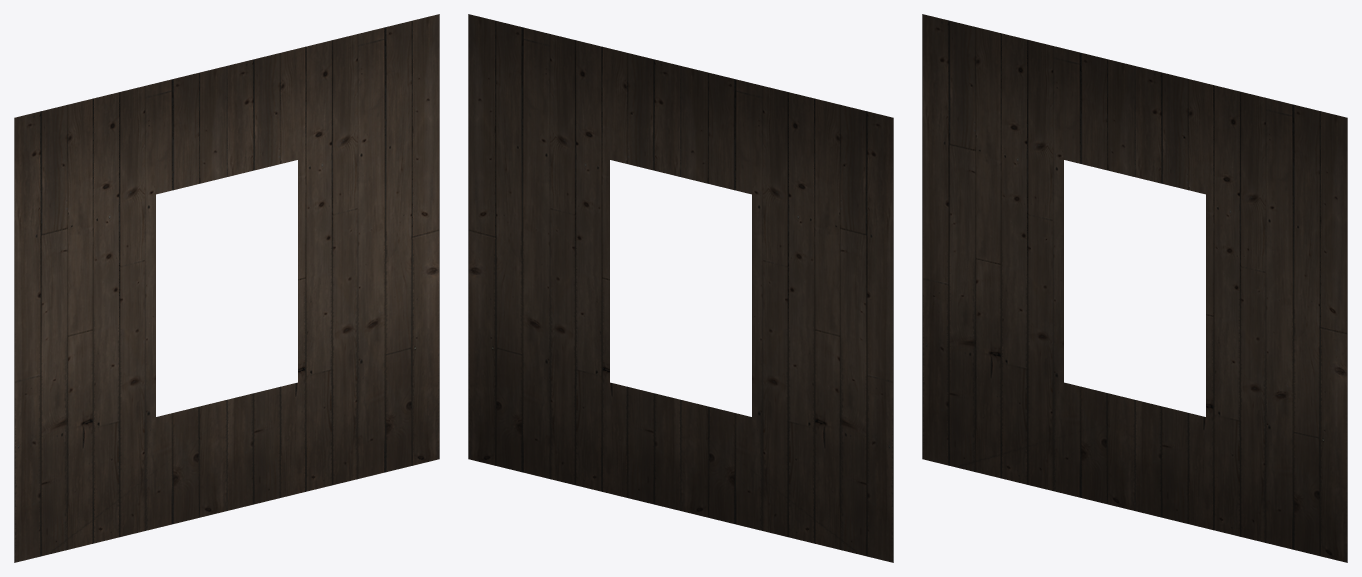
File: Wall.W_3x3_Window.fbx
3 views of the same model, side by side, from view 1: azimuth 30°, elevation 25°; view 2: azimuth 150°, elevation 25°; view 3: azimuth 330°, elevation 25° (orthographic).
Parts seen in each view (by area): view 1: Wall.W_3x3_Window; view 2: Wall.W_3x3_Window; view 3: Wall.W_3x3_Window.
Part boxes in pixels (x1=…): Wall.W_3x3_Window: x1=14, y1=14, x2=439, y2=562; Wall.W_3x3_Window: x1=468, y1=14, x2=893, y2=562; Wall.W_3x3_Window: x1=922, y1=14, x2=1347, y2=562.
Bounding box in the file's own units: 300 × 300 × 4.01e-05.
